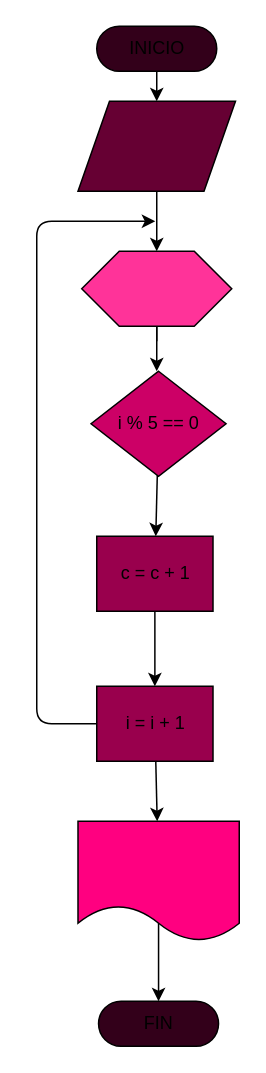
This 266x1073 diagram has some shape labels left out. The box of each missing label's shape, as (x1, y1, x2, y2) in pixels:
Hay c múltiplos de 5 dentro del número digitado: (76, 820, 239, 941)
i < x: (80, 250, 232, 326)
x c = 0 i = 1: (76, 100, 236, 191)
